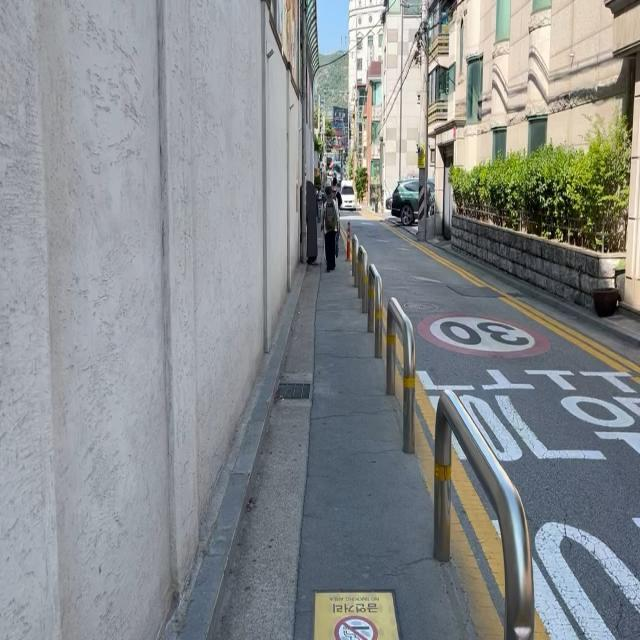building: (0, 0, 318, 638), (423, 0, 639, 313)
car: (391, 177, 435, 226)
